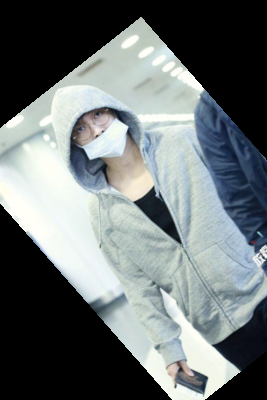mask_weared_incorrect: (44, 87, 145, 168)
